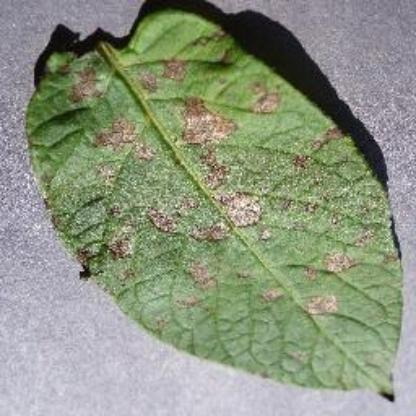Early-Blight: (24, 6, 404, 400)
